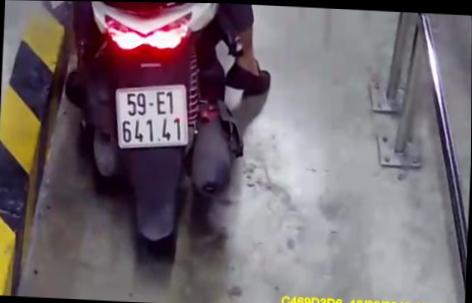LP: (113, 79, 192, 152)
